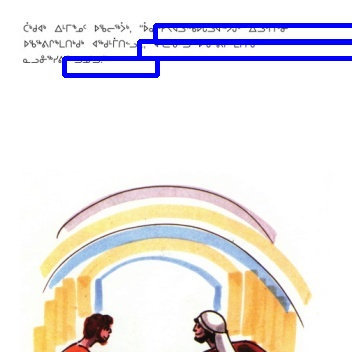inuktitut: (17, 17, 293, 34), (18, 33, 261, 50), (18, 50, 111, 67)
